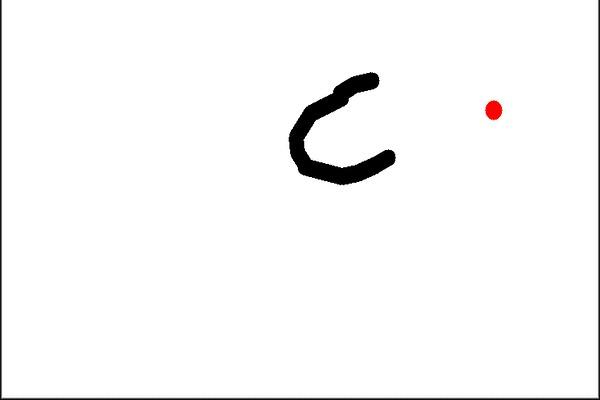C: (282, 53, 400, 187)
